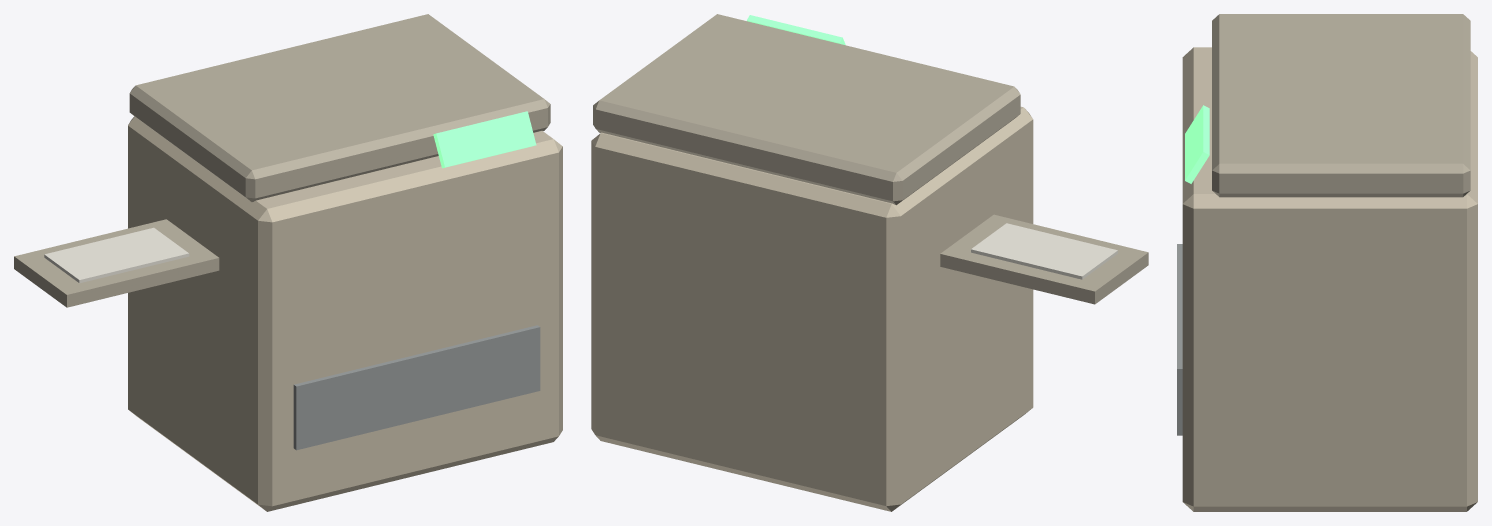
Rendered from an_copier.glb.
3 renders of one model, left to right at view 1: azimuth 30°, elevation 25°; view 2: azimuth 150°, elevation 25°; view 3: azimuth 270°, elevation 25°, orthographic. The views are drawn at different scales.
Parts seen in each view (by area): view 1: an_copier; view 2: an_copier; view 3: an_copier.
Part boxes in pixels (left/top/right/bottom): an_copier: left=14, top=14, right=562, bottom=511; an_copier: left=591, top=14, right=1148, bottom=511; an_copier: left=1177, top=14, right=1477, bottom=511.
Size of the model in its own units: 1.5 by 1.04 by 0.815.
